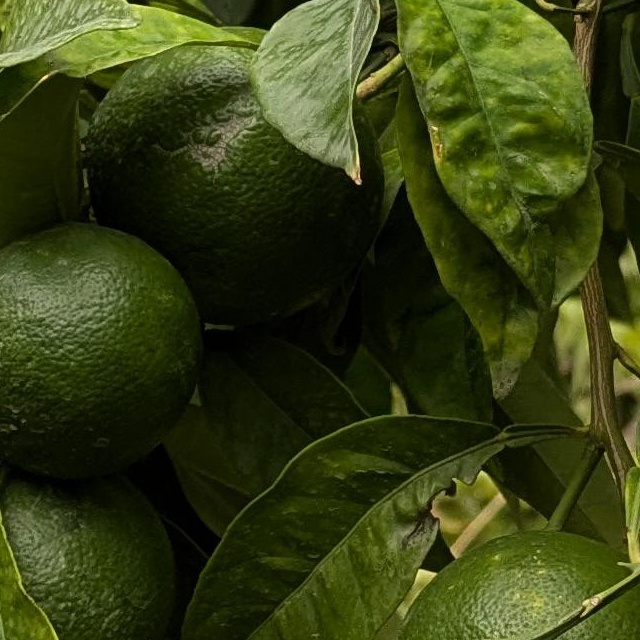orange: (74, 26, 388, 322), (0, 211, 214, 477), (0, 465, 204, 640), (381, 531, 640, 640), (0, 545, 77, 640)
